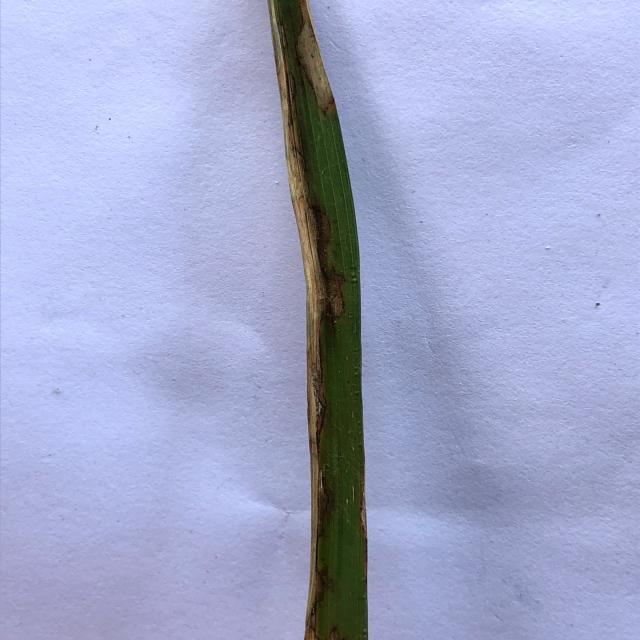Leaf Blight: (271, 0, 344, 640), (297, 0, 336, 114), (360, 473, 368, 540)
